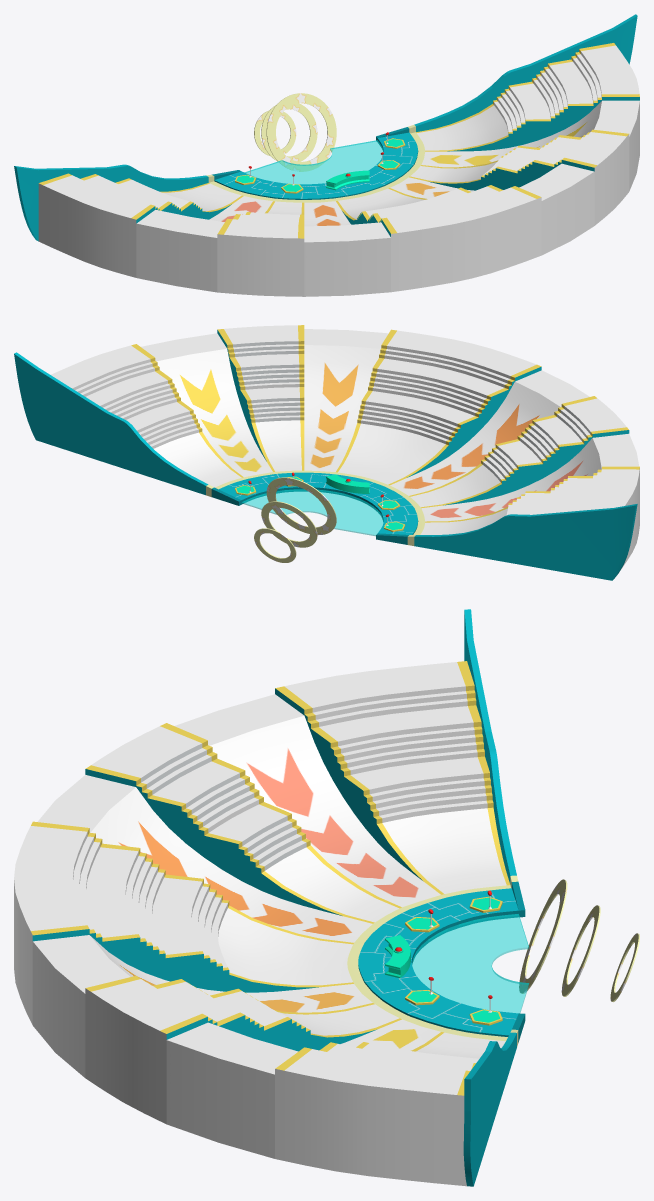
File: world.fbx
3 views of the same model, one above another, from view 1: azimuth 30°, elevation 25°; view 2: azimuth 150°, elevation 25°; view 3: azimuth 270°, elevation 25° (orthographic). The views are drawn at different scales.
Visible parts, largest first — view 1: floor, floor2, Circle00, Circle02, mike8, Circle01, desk; view 2: floor, floor2, Circle00, Circle02, mike8, Circle01, desk; view 3: floor, floor2, mike8, Circle00, Circle02, desk.
Boxes of the visible parts, x1,y1,x2,y2 form: floor: [14, 14, 639, 296]; floor2: [244, 140, 383, 184]; Circle00: [266, 93, 336, 171]; Circle02: [261, 103, 317, 161]; mike8: [235, 132, 405, 193]; Circle01: [254, 110, 296, 155]; desk: [326, 170, 369, 190]; floor: [14, 325, 639, 580]; floor2: [241, 489, 383, 536]; Circle00: [266, 477, 336, 534]; Circle02: [261, 501, 317, 547]; mike8: [235, 472, 405, 531]; Circle01: [254, 528, 296, 562]; desk: [326, 474, 369, 493]; floor: [14, 609, 525, 1186]; floor2: [412, 914, 529, 1013]; mike8: [405, 890, 502, 1025]; Circle00: [519, 879, 567, 993]; Circle02: [561, 905, 600, 996]; desk: [385, 935, 410, 978].
Bounding box in the file's own units: 26632 × 4074 × 14988.
